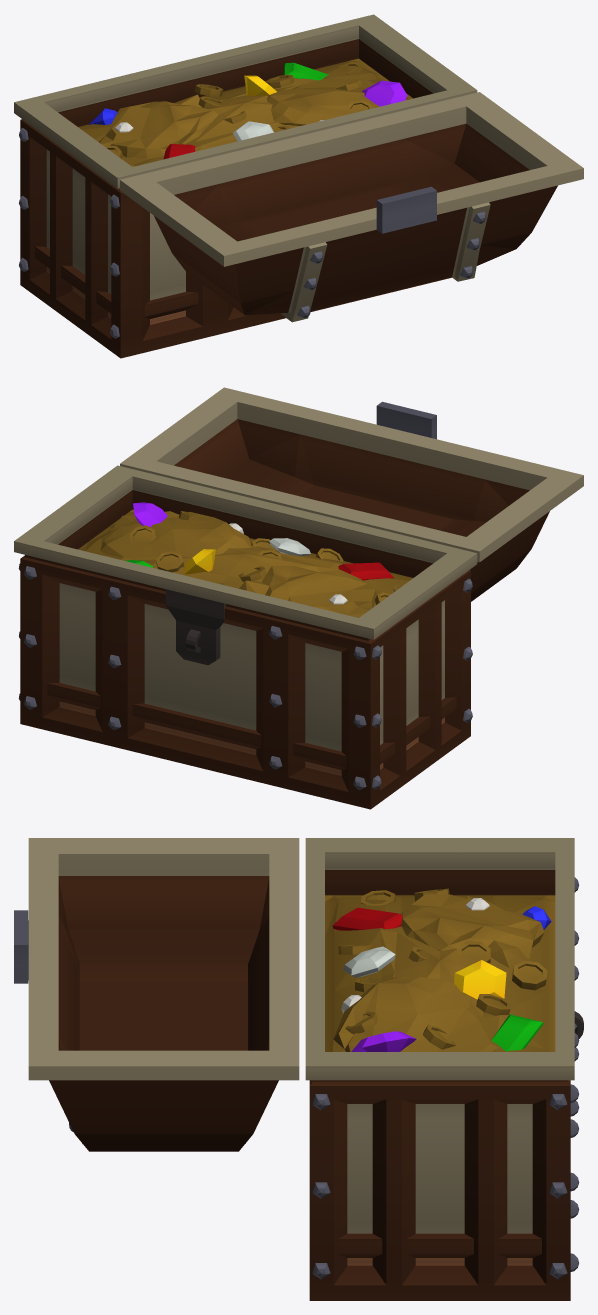
The model's file is x_chest_01.fbx.
3 renders of one model, top to bottom at view 1: azimuth 30°, elevation 25°; view 2: azimuth 150°, elevation 25°; view 3: azimuth 270°, elevation 25°, orthographic. The views are drawn at different scales.
Parts seen in each view (by area): view 1: x_chest_01_baked; view 2: x_chest_01_baked; view 3: x_chest_01_baked.
Boxes of the visible parts, bbox=[...] form: x_chest_01_baked: bbox=[14, 14, 583, 358]; x_chest_01_baked: bbox=[14, 387, 583, 809]; x_chest_01_baked: bbox=[14, 838, 583, 1300].
Size of the model in its own units: 1.18 by 0.6322 by 1.25.
